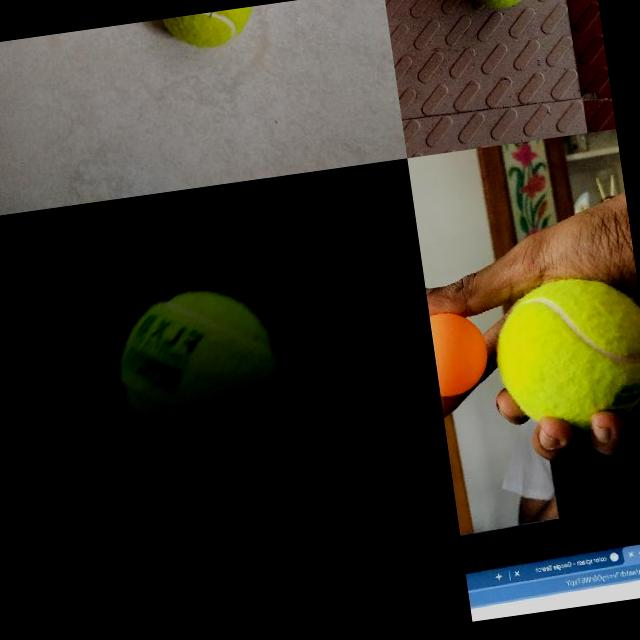Tennis Ball: (109, 278, 290, 462), (486, 269, 640, 442), (157, 6, 260, 57), (464, 0, 540, 13)
